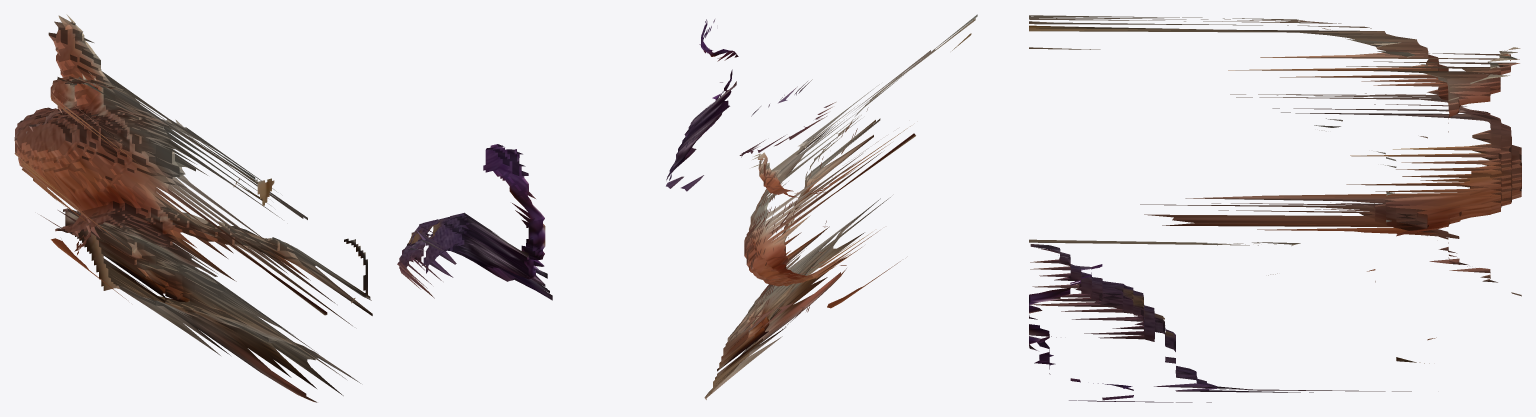
File: frame_00336.glb
3 renders of one model, left to right at view 1: azimuth 30°, elevation 25°; view 2: azimuth 150°, elevation 25°; view 3: azimuth 270°, elevation 25°, orthographic. The views are drawn at different scales.
Parts seen in each view (by area): view 1: geometry_0; view 2: geometry_0; view 3: geometry_0.
Part boxes in pixels (x1=…): geometry_0: x1=14, y1=14, x2=552, y2=402; geometry_0: x1=666, y1=14, x2=977, y2=399; geometry_0: x1=1029, y1=15, x2=1521, y2=402.
Bounding box in the file's own units: 0.1357 × 0.1174 × 0.16.
Materials: 1 (1 with a texture image).
